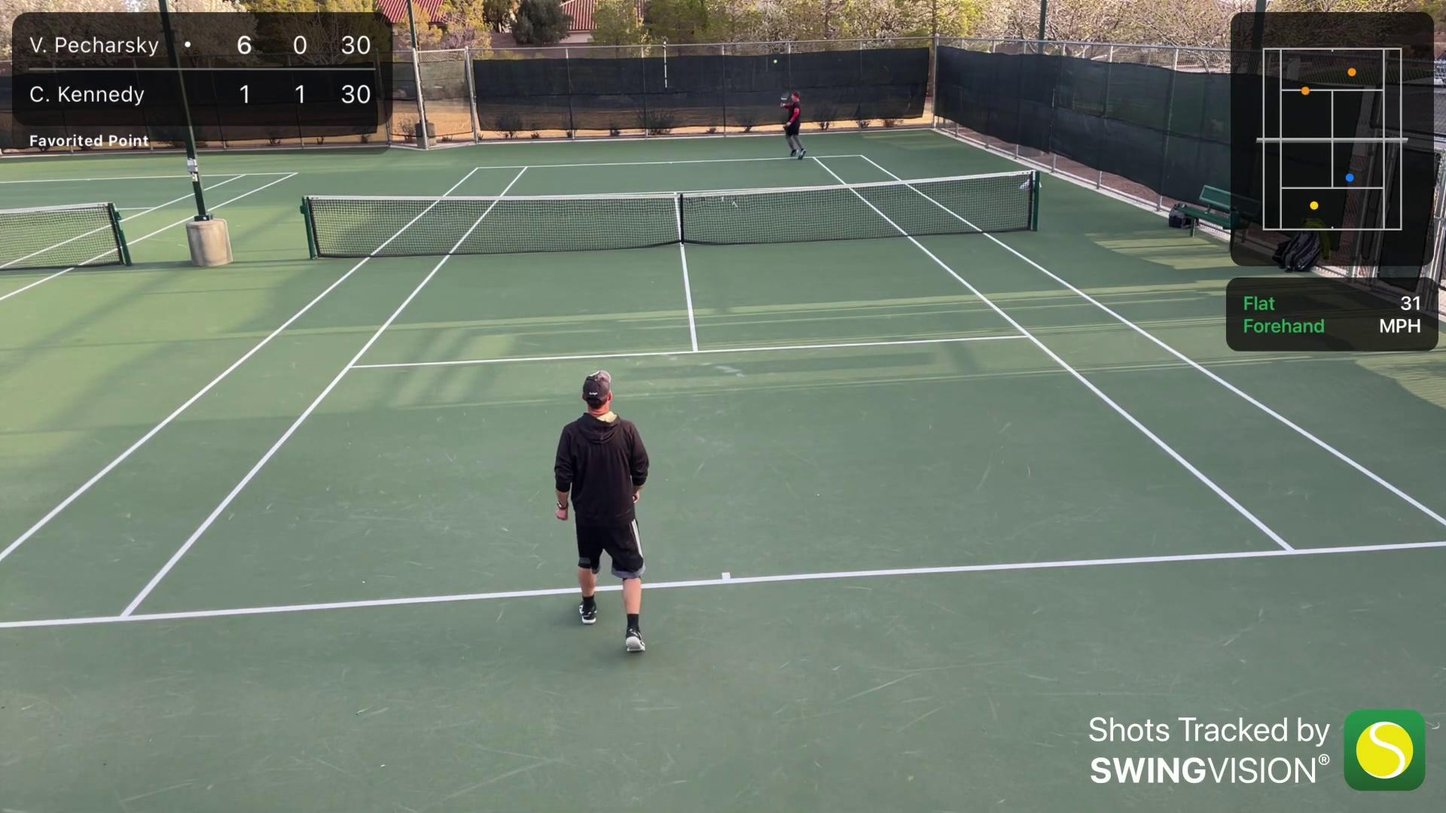ball: (773, 56, 779, 63)
